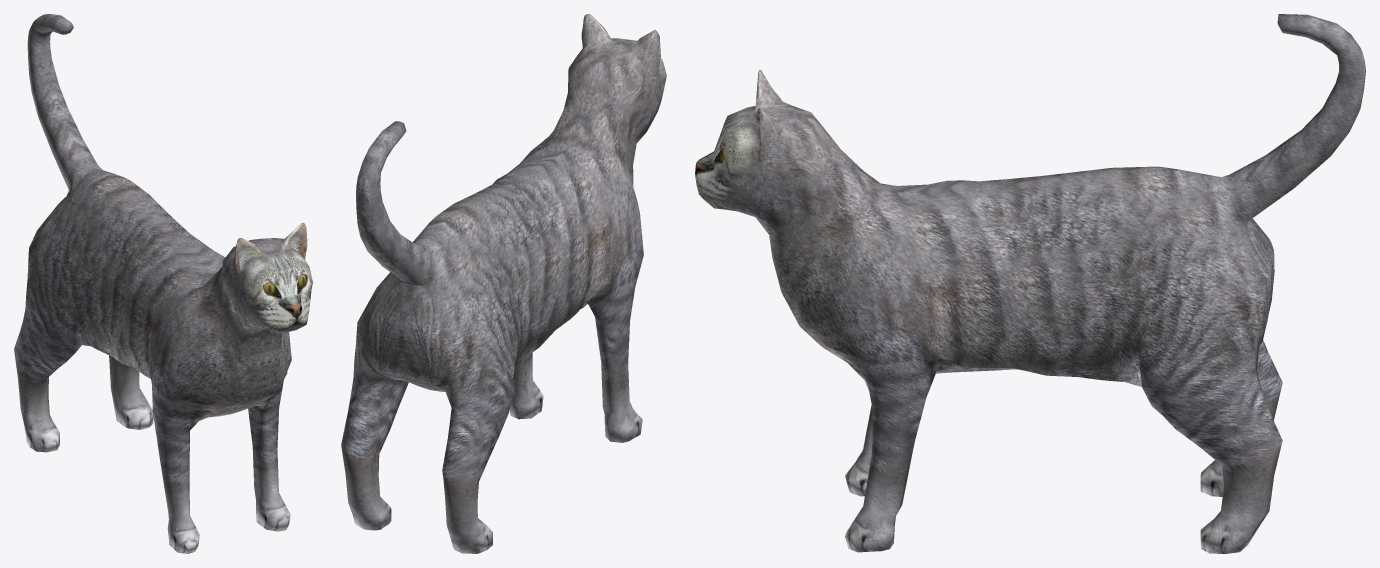
3 views of the same model, side by side, from view 1: azimuth 30°, elevation 25°; view 2: azimuth 150°, elevation 25°; view 3: azimuth 270°, elevation 25° (orthographic). The views are drawn at different scales.
Parts seen in each view (by area): view 1: Cat; view 2: Cat; view 3: Cat.
Boxes of the visible parts, left/top/right/bottom form: Cat: left=14, top=14, right=312, bottom=553; Cat: left=341, top=14, right=666, bottom=553; Cat: left=695, top=14, right=1365, bottom=553.
Bounding box in the file's own units: 27.01 × 81.98 × 99.18.
Materials: 1 (1 with a texture image).
